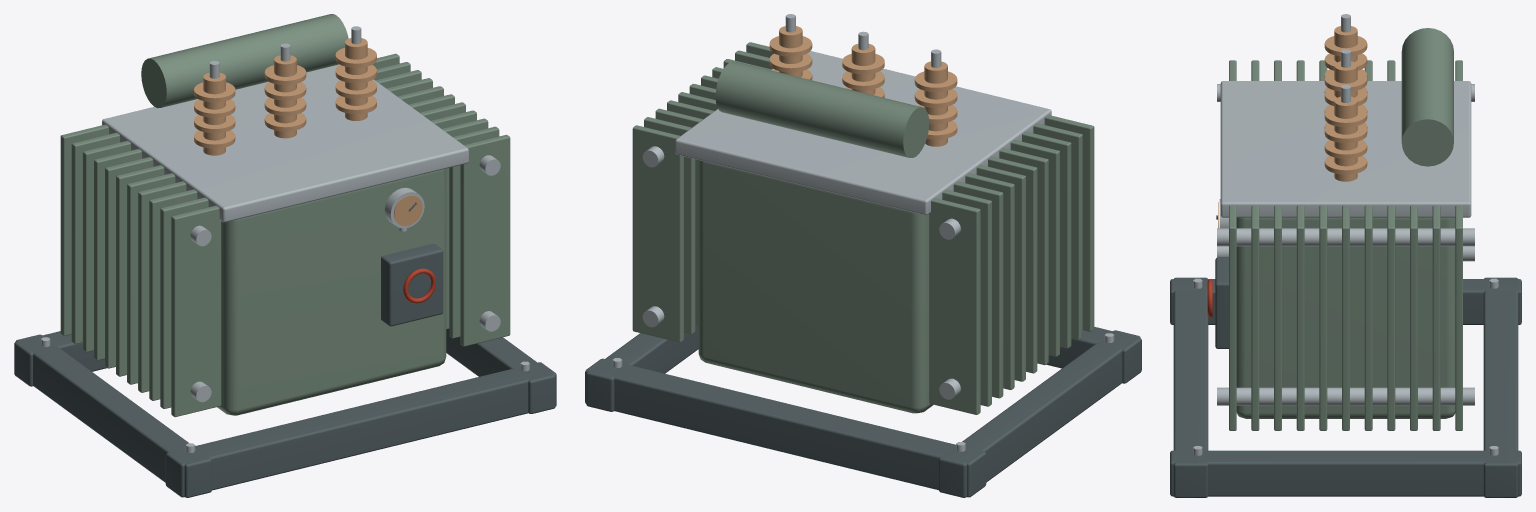
The model's file is oil_transformer.glb.
3 views of the same model, side by side, from view 1: azimuth 30°, elevation 25°; view 2: azimuth 150°, elevation 25°; view 3: azimuth 270°, elevation 25° (orthographic). The views are drawn at different scales.
Visible parts, largest first — view 1: oil_transformer_SPOT_sage_enamel, oil_transformer_SPOT_cast_iron, oil_transformer_SPOT_machined_steel, oil_transformer_SPOT_ceramic; view 2: oil_transformer_SPOT_sage_enamel, oil_transformer_SPOT_cast_iron, oil_transformer_SPOT_machined_steel, oil_transformer_SPOT_ceramic; view 3: oil_transformer_SPOT_sage_enamel, oil_transformer_SPOT_machined_steel, oil_transformer_SPOT_cast_iron, oil_transformer_SPOT_ceramic.
Boxes of the visible parts, left/top/right/bottom form: oil_transformer_SPOT_sage_enamel: left=60, top=14, right=510, bottom=417; oil_transformer_SPOT_cast_iron: left=14, top=202, right=556, bottom=497; oil_transformer_SPOT_machined_steel: left=41, top=26, right=529, bottom=452; oil_transformer_SPOT_ceramic: left=194, top=38, right=422, bottom=226; oil_transformer_SPOT_sage_enamel: left=632, top=42, right=1094, bottom=414; oil_transformer_SPOT_cast_iron: left=585, top=324, right=1141, bottom=497; oil_transformer_SPOT_machined_steel: left=612, top=14, right=1114, bottom=451; oil_transformer_SPOT_ceramic: left=769, top=26, right=957, bottom=146; oil_transformer_SPOT_sage_enamel: left=1229, top=28, right=1462, bottom=430; oil_transformer_SPOT_machined_steel: left=1193, top=14, right=1498, bottom=455; oil_transformer_SPOT_cast_iron: left=1170, top=215, right=1521, bottom=497; oil_transformer_SPOT_ceramic: left=1218, top=26, right=1367, bottom=228.
Bounding box in the file's own units: 2.55 × 2.24 × 2.02.
